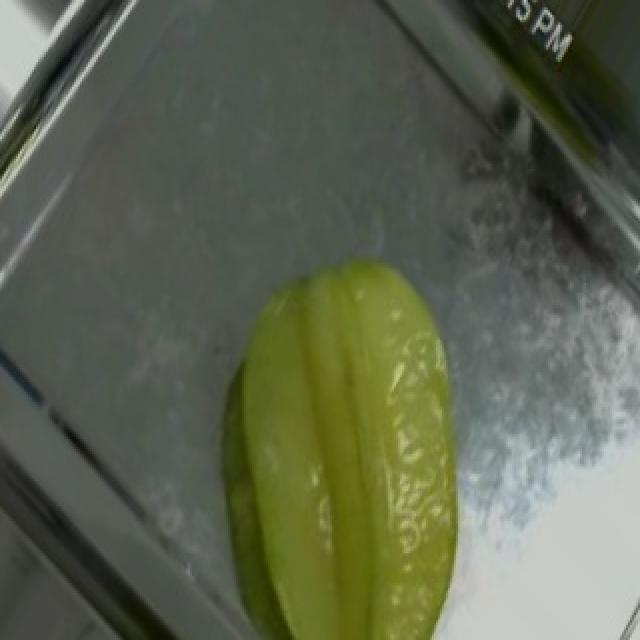fruit: (158, 206, 540, 637)
